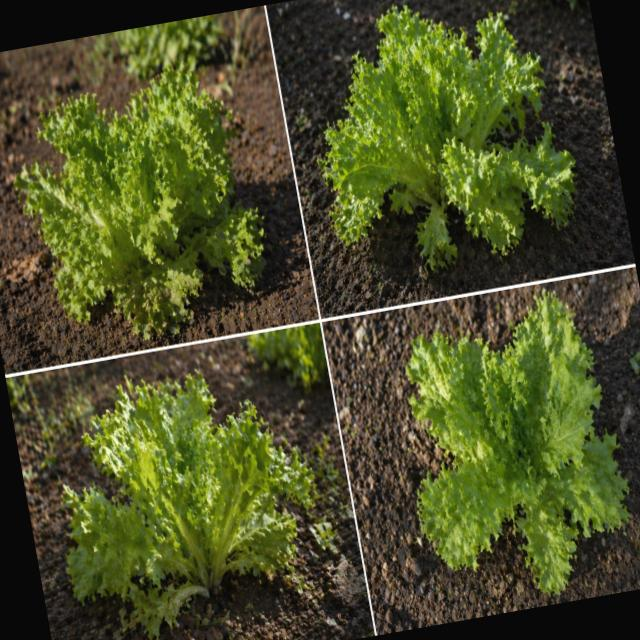inmadura: (14, 66, 266, 338), (318, 5, 575, 268), (62, 371, 314, 638), (406, 291, 629, 592)
